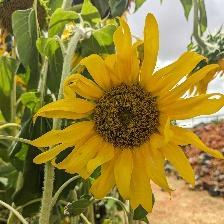sunflower: (59, 38, 219, 207)
